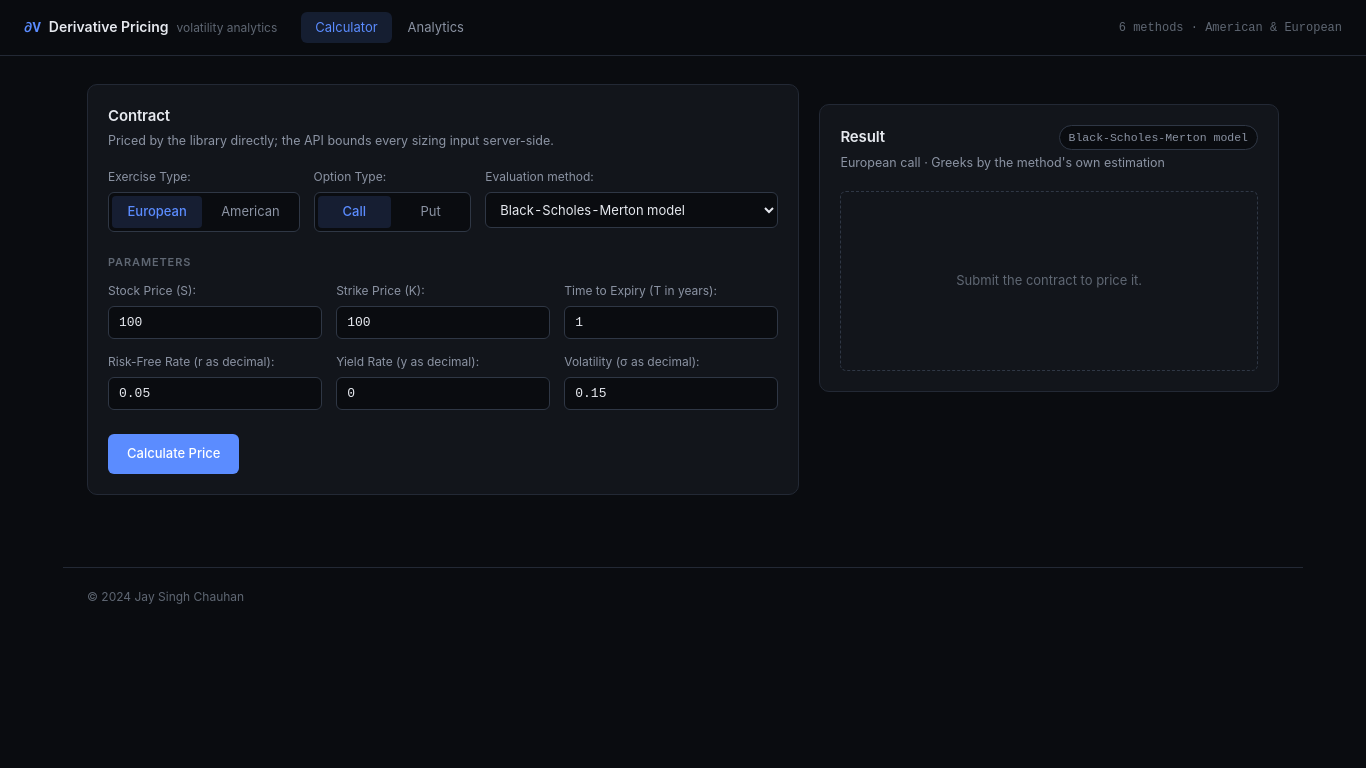
Scenario: exercise-type filtering › auto-switches away from BSM when American is selected
This screenshot has width=1366, height=768.
Expected: the dropdown labelled "Evaluation method:" shows "Black-Scholes-Merton model", [485,192,778,228]
Click the radio button labelled "American". click: (250, 211)
box: [221,203,280,219]
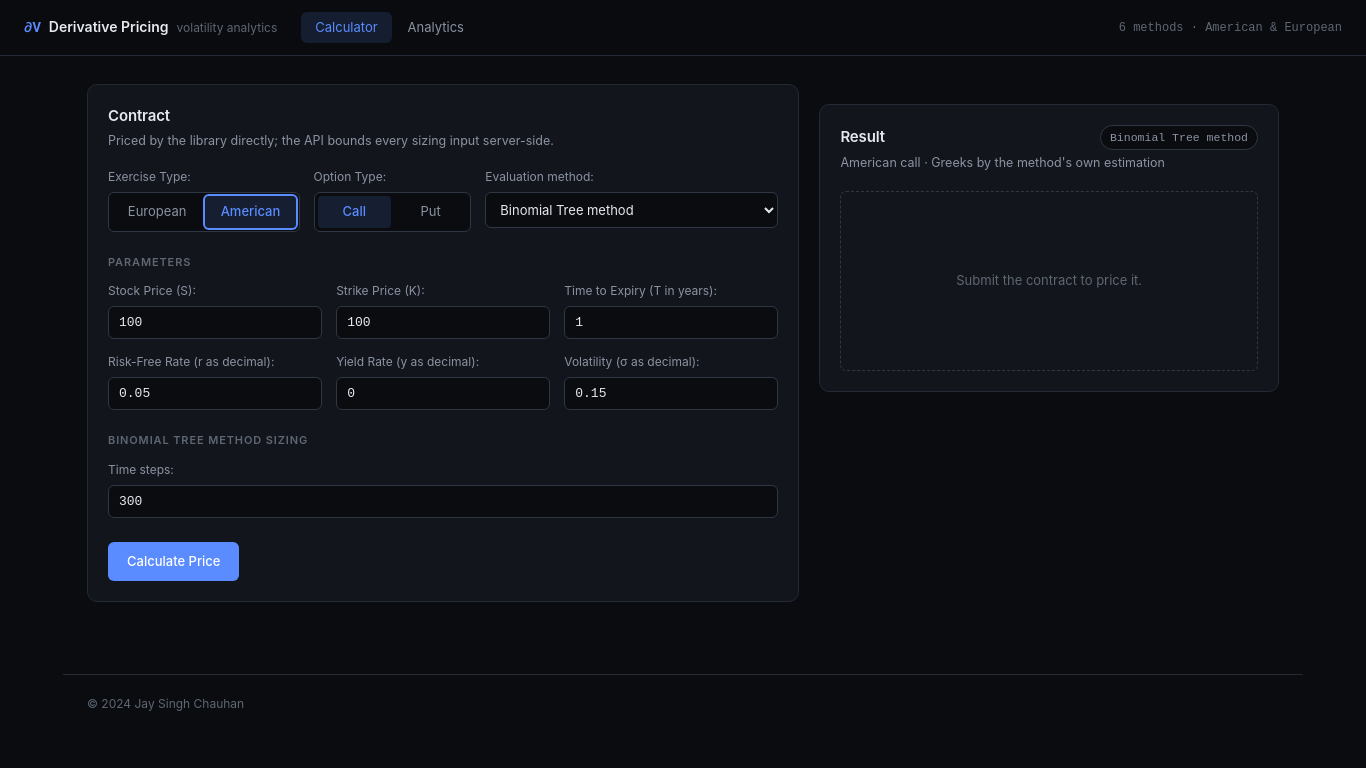
Expected: the dropdown labelled "Evaluation method:" shows "Binomial Tree method", [485,192,778,228]
